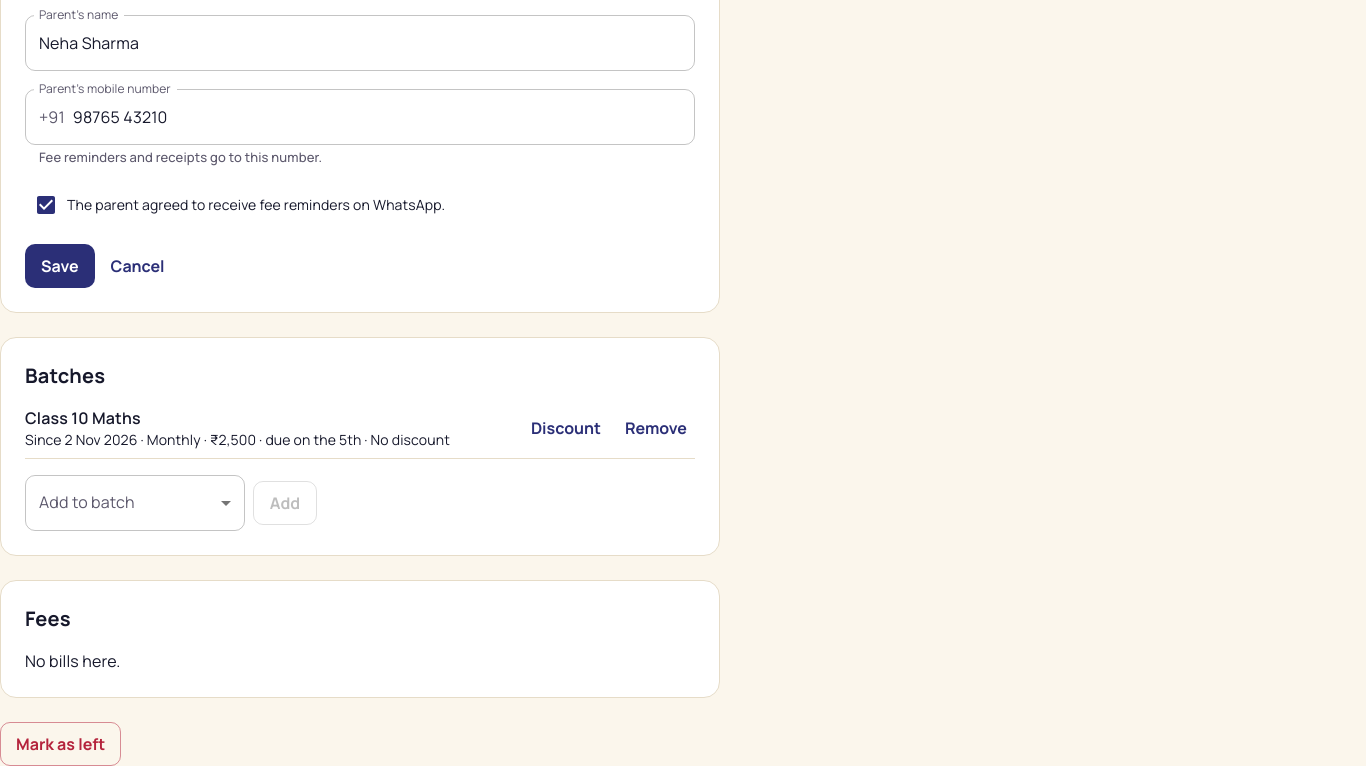
Test: StudentDetail › marks the student as left after asking, and back as active
(page scrolled)
Click the button "Mark as left" at x=61, y=744, box [0, 722, 121, 765]
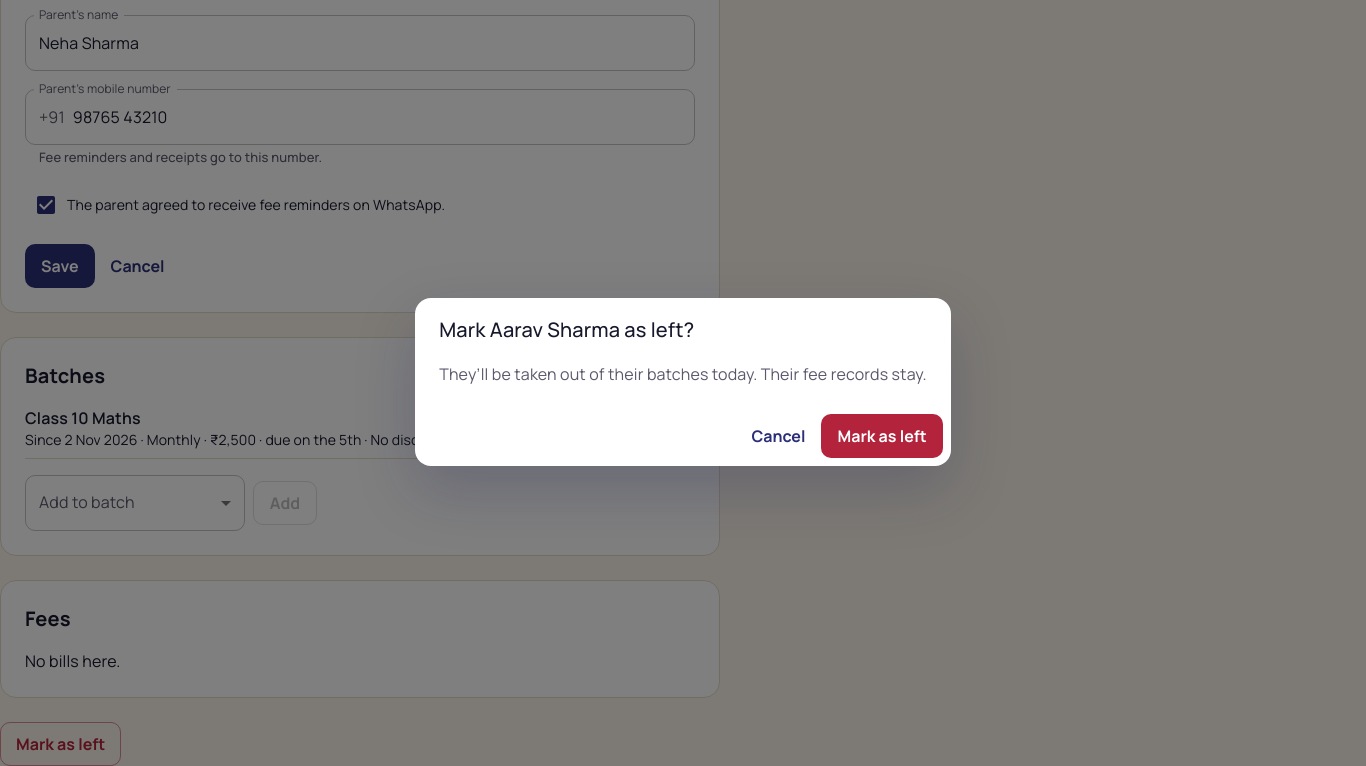
Check: the dialog "Mark Aarav Sharma as left?" shows "They’ll be taken out of their batches today. Their fee records stay.", box [439, 363, 927, 385]
Click the button "Mark as left" at x=882, y=436, box [822, 414, 943, 458]
(page scrolled)
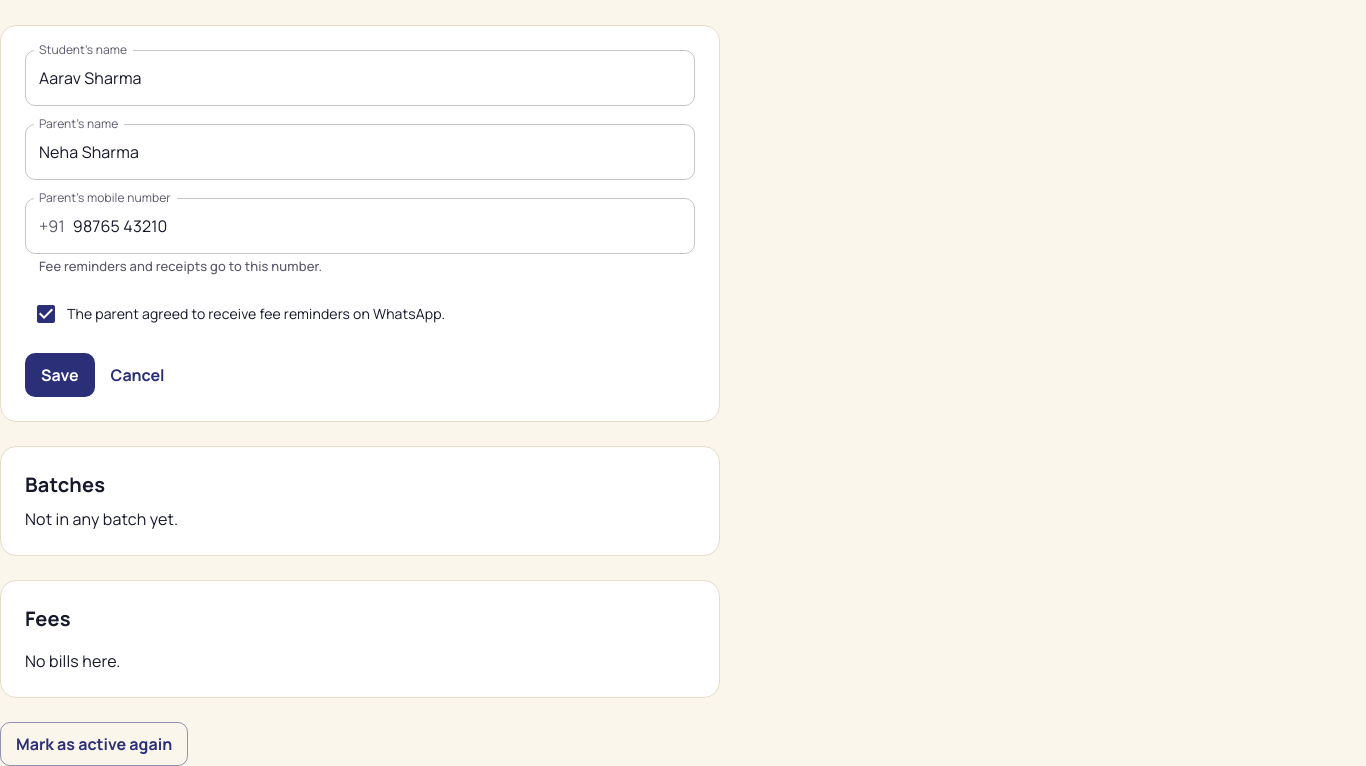
Check: the dialog is gone
Check: the dropdown is gone
Click the button "Mark as active again" at x=94, y=744, box [0, 722, 188, 765]
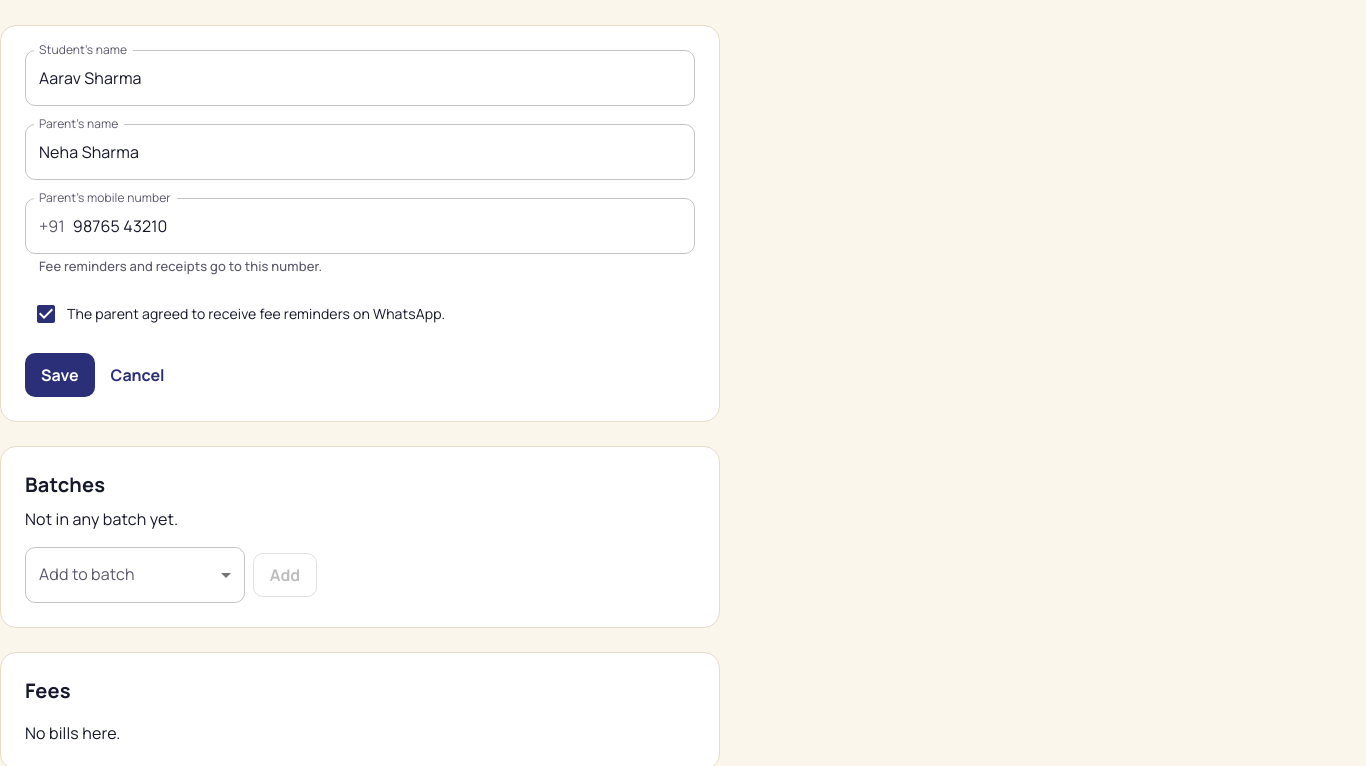
Check: the dropdown named "Add to batch" is shown, box [25, 547, 245, 603]
